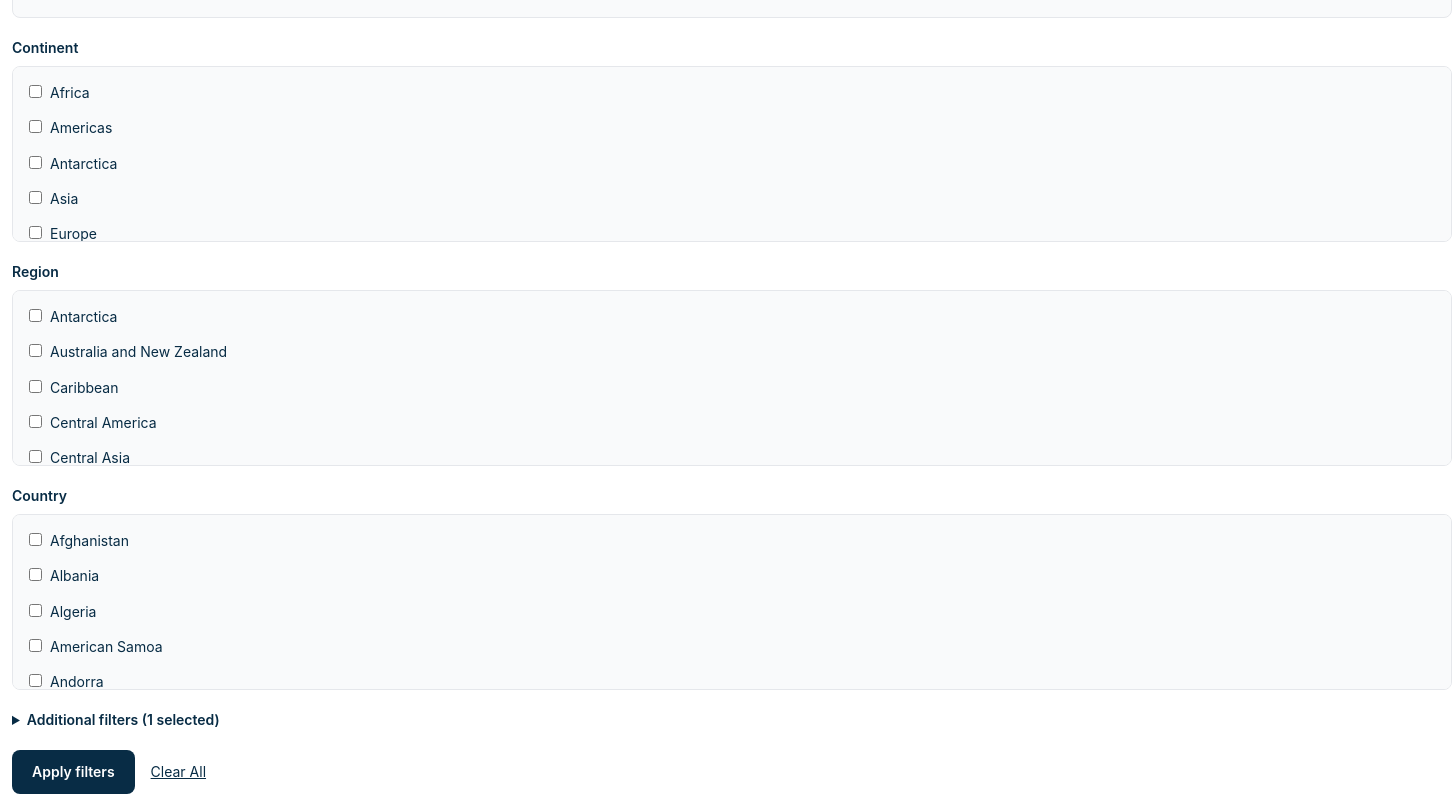
Test case: uses checkbox groups, hides additional filters by default and omits source controls
This screenshot has width=1452, height=794.
(page scrolled)
Click the heading "Additional filters (1 selected)" at point(123, 720), box [27, 711, 220, 728]
(page scrolled)
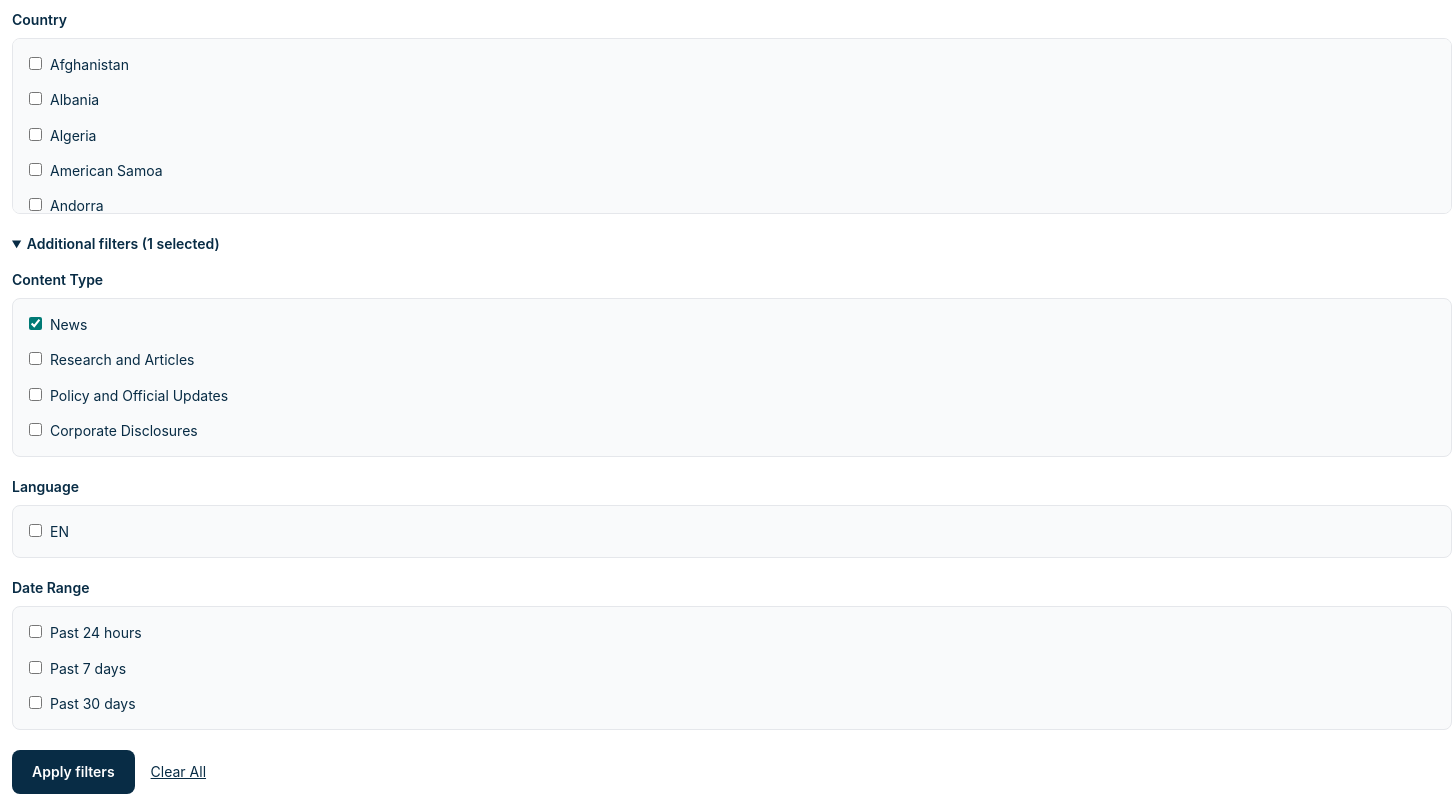
Check: the checkbox labelled "News" is checked, box [29, 317, 42, 330]
Check: the checkbox labelled "EN" is shown, box [29, 524, 42, 537]
